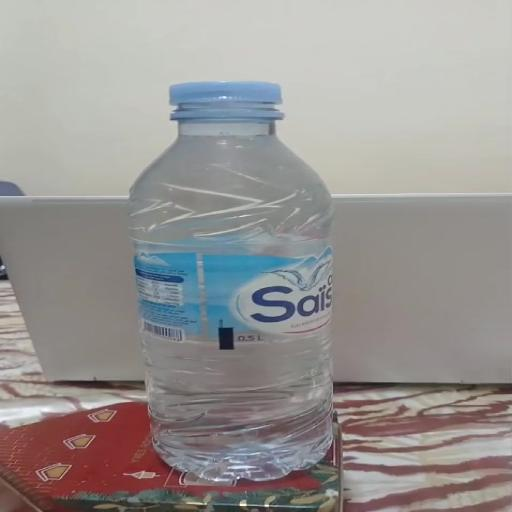bouteille non conformite: (141, 66, 342, 138)
